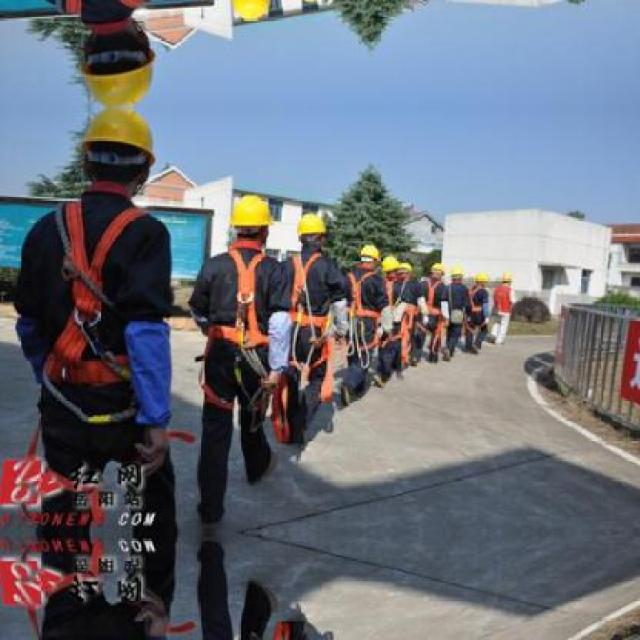helmet: (79, 108, 155, 194), (79, 19, 155, 104), (227, 194, 271, 252), (298, 209, 327, 249), (226, 0, 272, 18), (358, 239, 378, 266), (382, 252, 400, 280), (428, 259, 446, 279), (396, 257, 413, 278), (475, 270, 488, 287), (450, 265, 464, 280), (500, 270, 512, 284)
